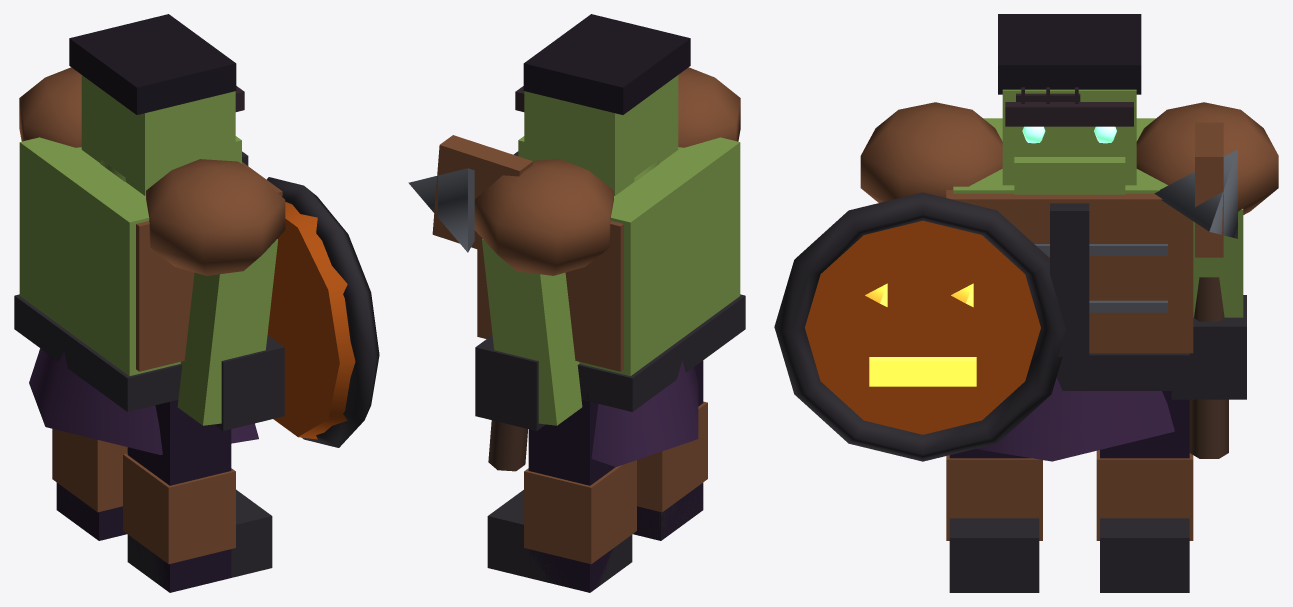
The model's file is enemy_armored.glb.
The picture shows the model from 3 angles, left to right: view 1: azimuth 30°, elevation 25°; view 2: azimuth 150°, elevation 25°; view 3: azimuth 270°, elevation 25°; orthographic projection. The views are drawn at different scales.
Visible parts, largest first — view 1: torso, shield, pauldron_l, hair, head, arm_l_mesh, greave_l, shield_rim, leg_l_mesh, skirt, chestplate, belt (+5 smaller); view 2: torso, pauldron_r, hair, head, arm_r_mesh, greave_r, chestplate, leg_r_mesh, skirt, belt, bracer_r, foot_r (+7 smaller); view 3: shield, shield_rim, chestplate, hair, pauldron_l, skirt, pauldron_r, foot_l, foot_r, greave_r, greave_l, head (+14 smaller).
Boxes of the visible parts, x1,y1,x2,y2 form: torso: [19, 137, 180, 376]; shield: [268, 202, 355, 439]; pauldron_l: [146, 159, 285, 275]; hair: [69, 14, 236, 114]; head: [81, 75, 235, 195]; arm_l_mesh: [177, 239, 277, 425]; greave_l: [123, 453, 235, 564]; shield_rim: [266, 177, 379, 447]; leg_l_mesh: [127, 400, 231, 592]; skirt: [29, 348, 258, 454]; chestplate: [23, 138, 282, 371]; belt: [14, 294, 182, 411]; torso: [579, 137, 740, 376]; pauldron_r: [474, 159, 613, 275]; hair: [523, 14, 690, 114]; head: [524, 75, 678, 195]; arm_r_mesh: [482, 239, 582, 425]; greave_r: [524, 460, 636, 564]; chestplate: [477, 138, 736, 371]; leg_r_mesh: [528, 392, 615, 592]; skirt: [591, 360, 698, 466]; belt: [577, 294, 745, 411]; bracer_r: [475, 335, 545, 430]; foot_r: [487, 490, 632, 588]; shield: [805, 221, 1040, 434]; shield_rim: [774, 192, 1065, 461]; chestplate: [946, 190, 1193, 353]; hair: [998, 14, 1141, 94]; pauldron_l: [860, 102, 1002, 202]; skirt: [976, 377, 1174, 461]; pauldron_r: [1136, 102, 1278, 214]; foot_l: [949, 518, 1039, 592]; foot_r: [1100, 518, 1189, 592]; greave_r: [1096, 450, 1193, 540]; greave_l: [946, 455, 1042, 540]; head: [1002, 89, 1136, 185].
Bounding box in the file's own units: 0.1589 × 0.321 × 0.2817.
